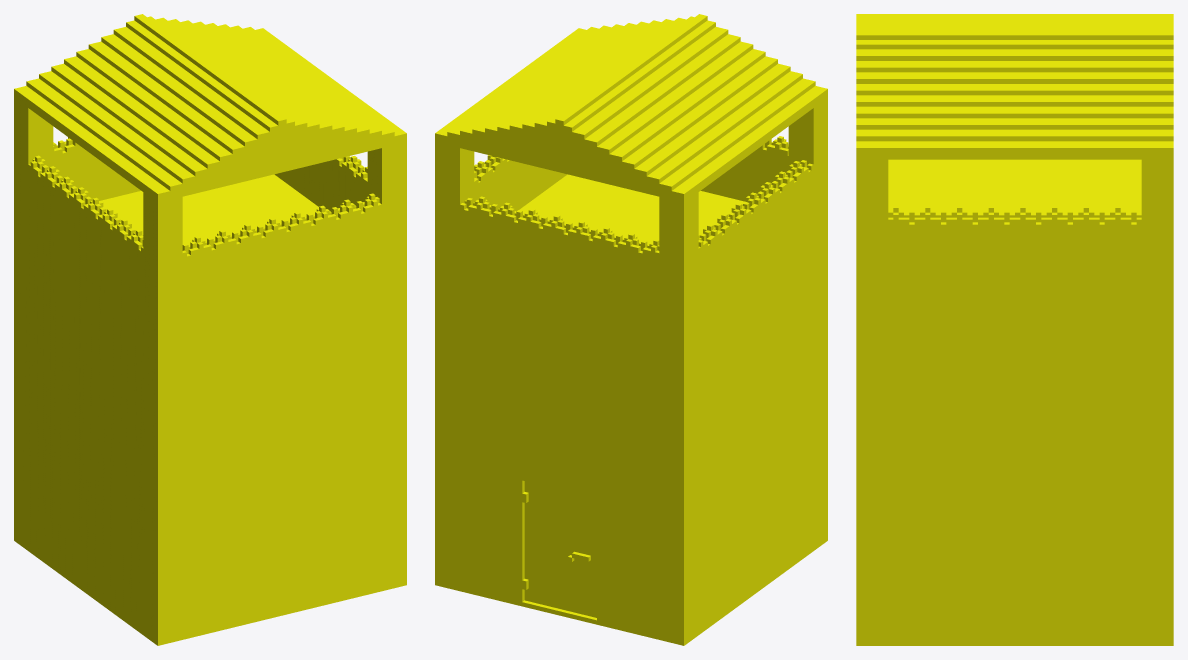
File: voxel-rangers-tower-with-door.glb
3 views of the same model, side by side, from view 1: azimuth 30°, elevation 25°; view 2: azimuth 150°, elevation 25°; view 3: azimuth 270°, elevation 25° (orthographic). The views are drawn at different scales.
Parts seen in each view (by area): view 1: ObjObject.006; view 2: ObjObject.006; view 3: ObjObject.006.
Part boxes in pixels (<box>): ObjObject.006: <box>14,14,406,645</box>; ObjObject.006: <box>435,14,827,645</box>; ObjObject.006: <box>856,14,1173,645</box>.
Bounding box in the file's own units: 6 × 11.4 × 6.
